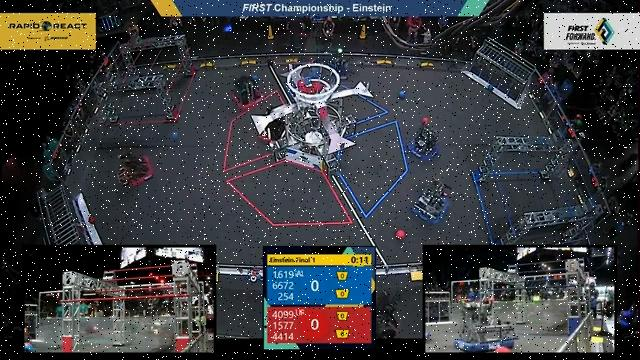Robot: (409, 175, 456, 228), (114, 147, 153, 192), (406, 118, 444, 164), (229, 70, 267, 113), (258, 101, 290, 146), (326, 45, 354, 84)
